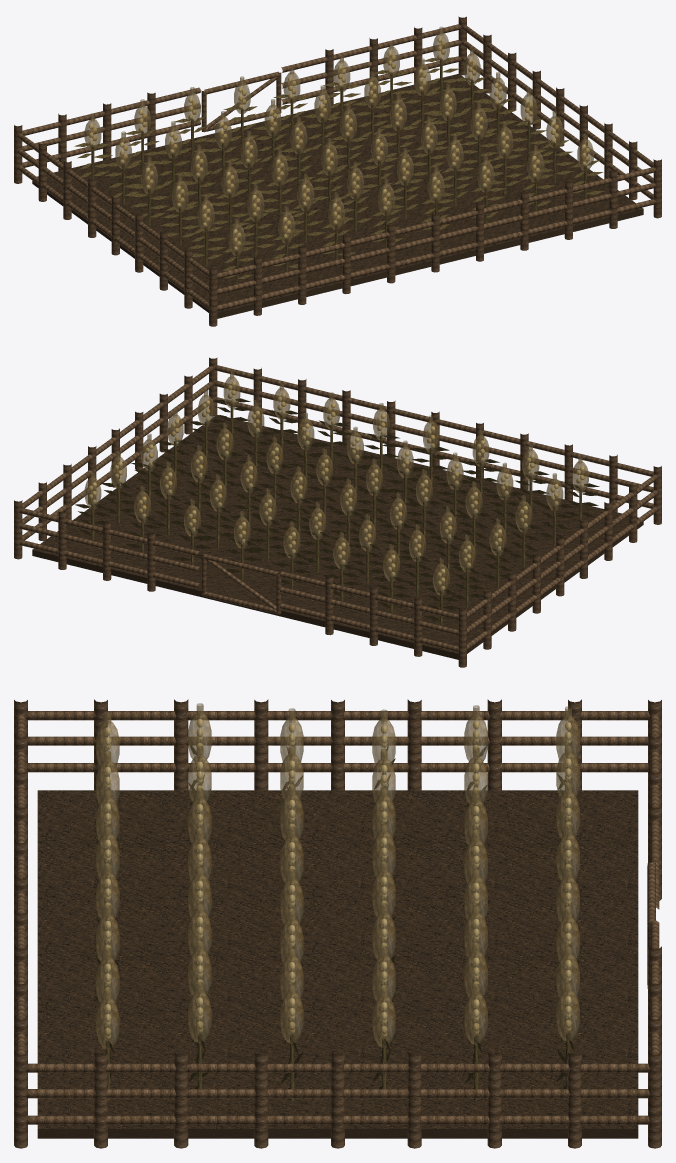
Rendered from prispod_farm.glb.
3 views of the same model, one above another, from view 1: azimuth 30°, elevation 25°; view 2: azimuth 150°, elevation 25°; view 3: azimuth 270°, elevation 25° (orthographic). The views are drawn at different scales.
Visible parts, largest first — view 1: Soil, Wood, Pod, Leaf, Seed; view 2: Soil, Wood, Pod, Leaf, Seed; view 3: Soil, Wood, Pod, Leaf, Seed.
Boxes of the visible parts, left/top/right/bottom form: Soil: left=32, top=73, right=643, bottom=318; Wood: left=14, top=16, right=661, bottom=326; Pod: left=84, top=26, right=593, bottom=255; Leaf: left=74, top=57, right=604, bottom=284; Seed: left=89, top=37, right=589, bottom=251; Soil: left=32, top=414, right=643, bottom=659; Wood: left=14, top=357, right=661, bottom=667; Pod: left=84, top=370, right=588, bottom=595; Leaf: left=75, top=398, right=600, bottom=625; Seed: left=88, top=381, right=584, bottom=590; Soil: left=37, top=790, right=638, bottom=1138; Wood: left=14, top=699, right=661, bottom=1148; Pod: left=96, top=703, right=579, bottom=1049; Leaf: left=96, top=743, right=579, bottom=1100; Seed: left=104, top=719, right=571, bottom=1040.
Bounding box in the file's own units: 12.71 × 2.1 × 9.71.
5 materials, 4 textured.
